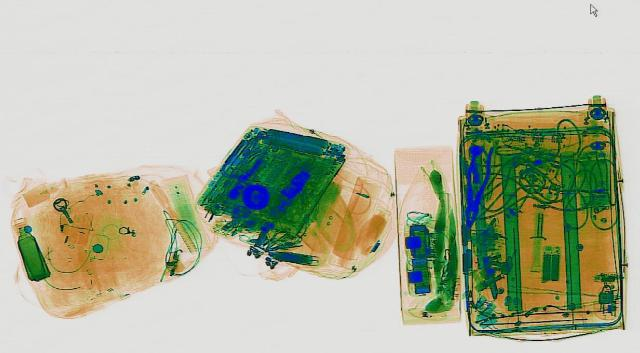Pliers: (452, 146, 496, 225)
